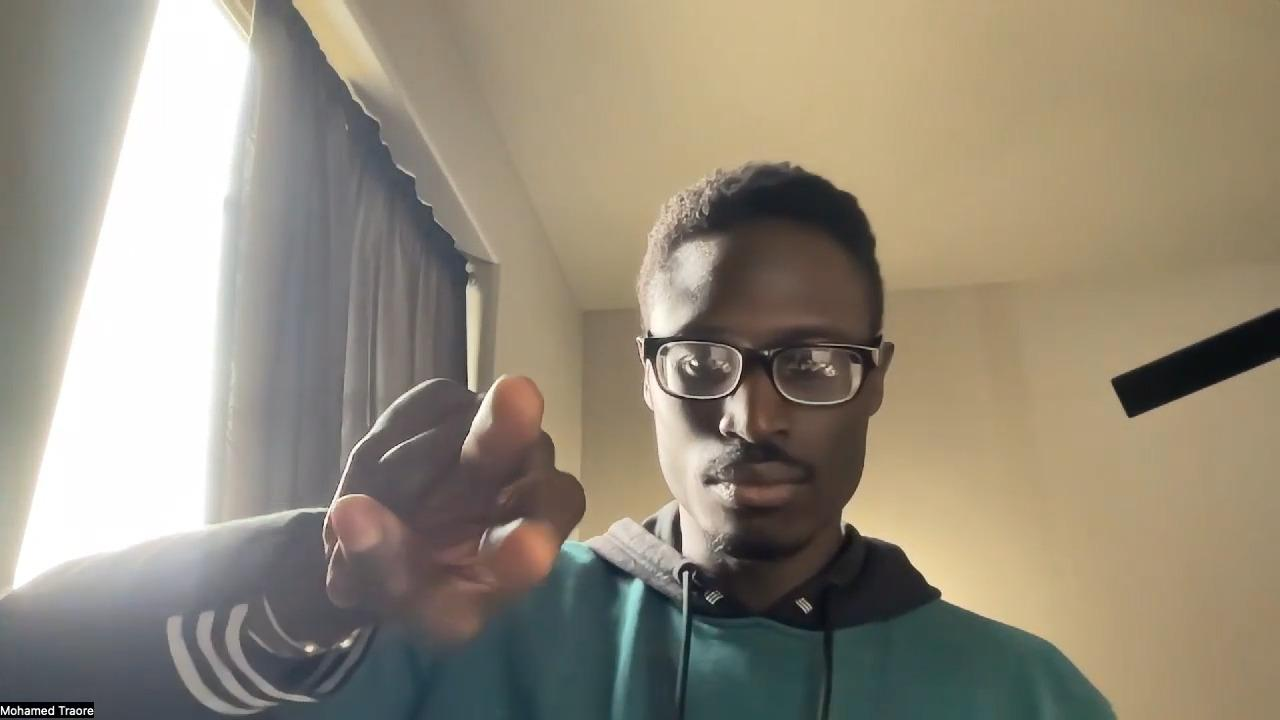Scissors: (312, 367, 585, 649)
